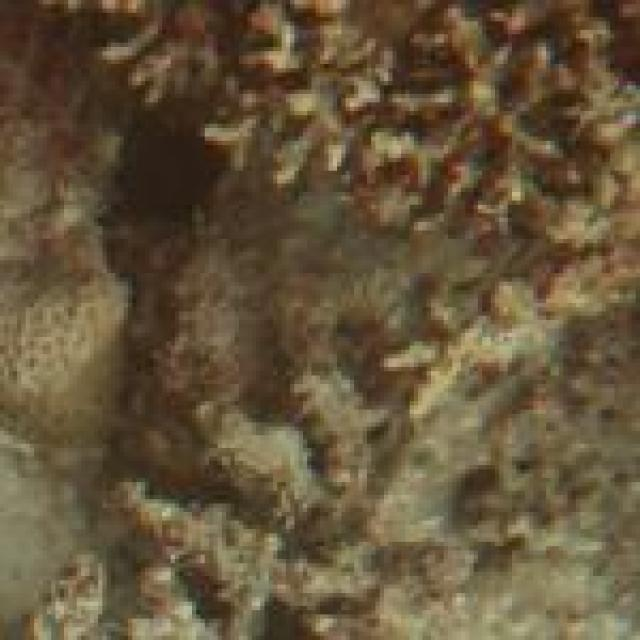Healthy Coral: (0, 221, 151, 467)
